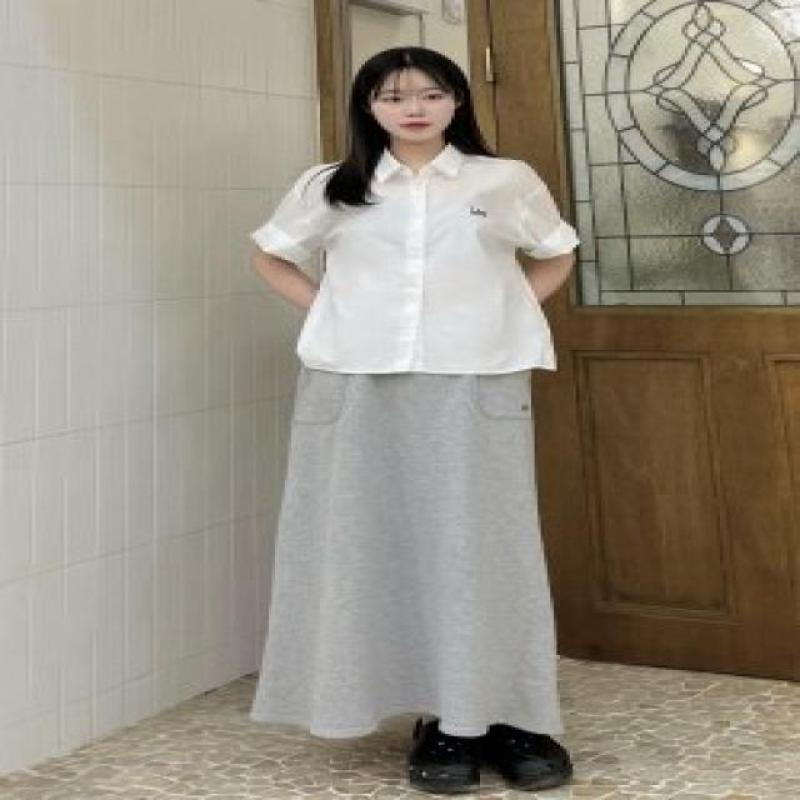short sleeve shirt: (245, 142, 581, 376)
